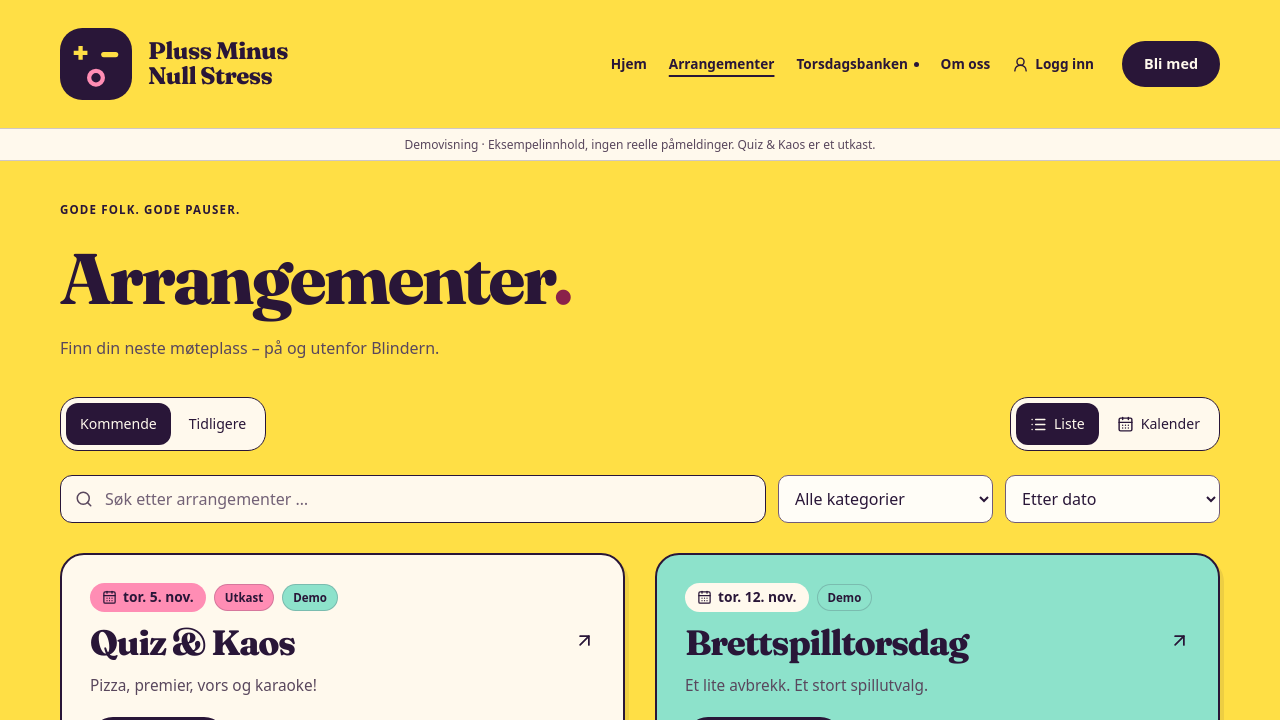
filtrerer arrangementer og finner tomtilstand
This screenshot has width=1280, height=720.
In the field labelled "Søk etter arrangementer": (429, 500) [93,476,765,522], type "finnes ikke"
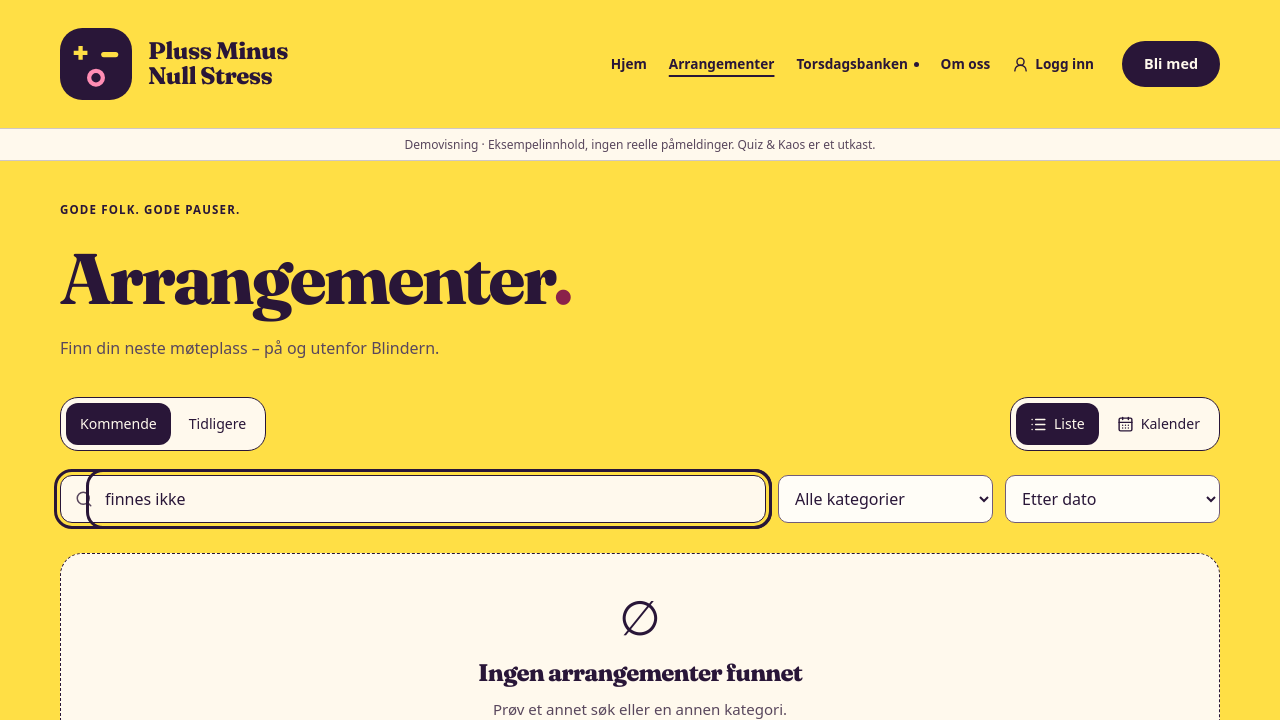
Now the heading "Ingen arrangementer funnet" is shown, box [478,658,802,688]
